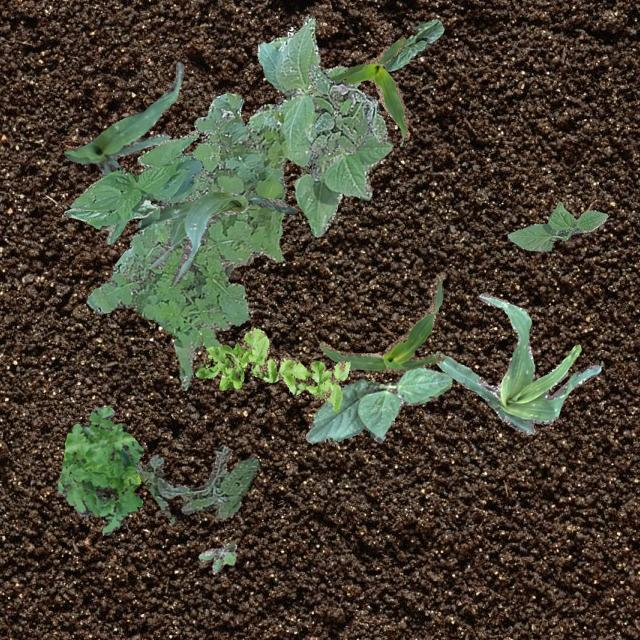crop: (245, 17, 392, 235), (432, 292, 600, 434), (137, 188, 296, 284), (68, 130, 202, 243), (64, 61, 182, 176), (318, 272, 444, 374), (304, 366, 450, 442), (308, 35, 408, 138), (507, 202, 608, 250), (383, 17, 442, 70), (62, 198, 156, 220)
weed: (85, 92, 288, 390), (194, 326, 348, 412), (56, 404, 142, 534), (134, 444, 258, 522), (306, 62, 386, 152), (198, 540, 235, 572)
